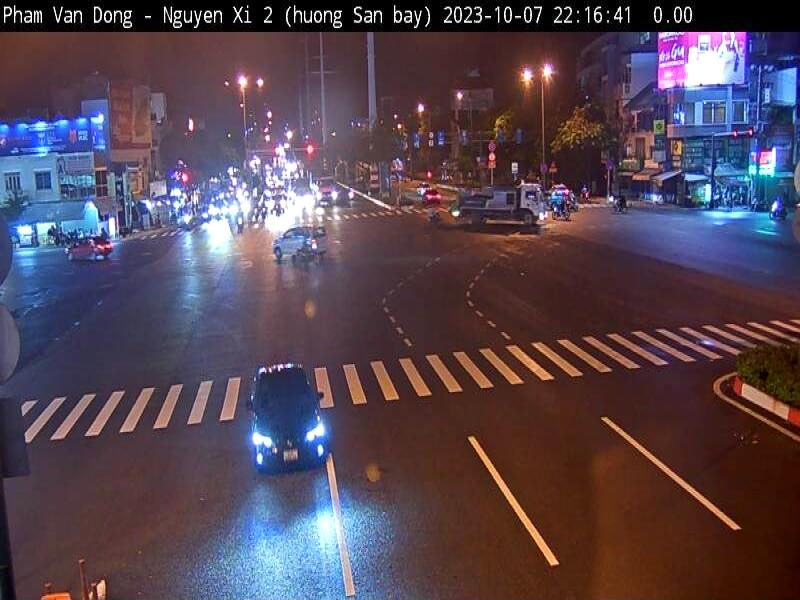car: (245, 320, 338, 497), (266, 214, 332, 268), (64, 227, 114, 270)
truck: (455, 175, 547, 250)
